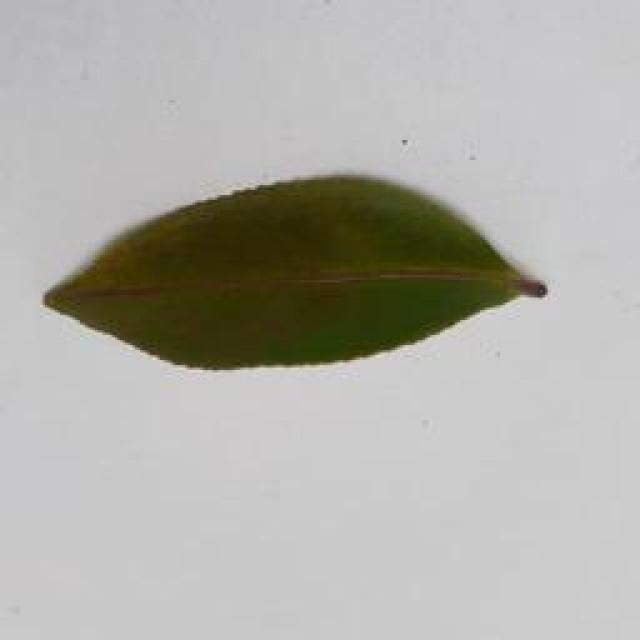Red Leaf Spot: (21, 168, 555, 386)
